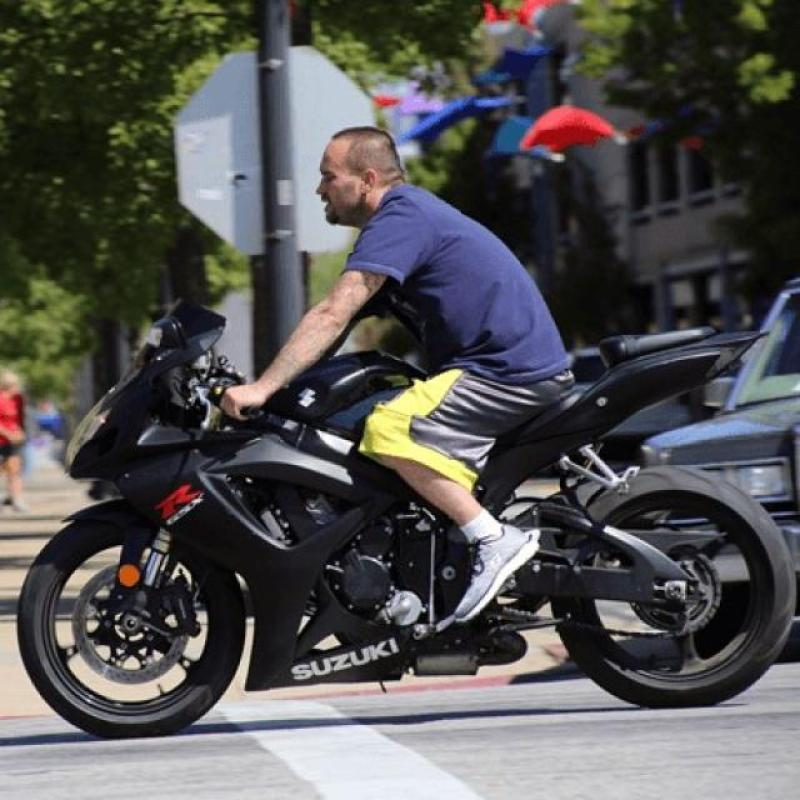nohelmet: (304, 87, 461, 252)
